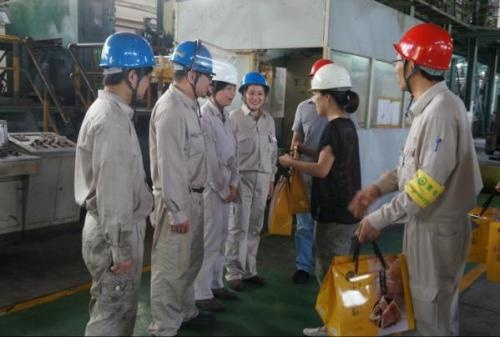blue: (100, 32, 154, 99), (170, 41, 212, 92), (239, 72, 267, 110)
red: (390, 21, 454, 92)
white: (308, 62, 356, 120), (208, 62, 238, 106)
